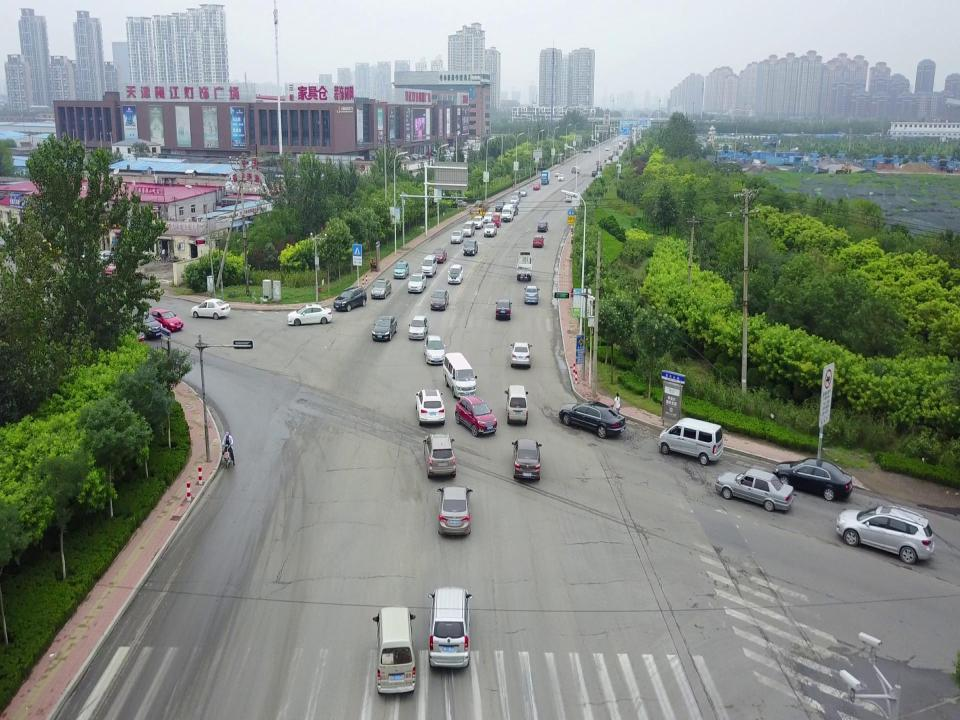car: (830, 502, 938, 572), (715, 461, 797, 524), (770, 451, 856, 500), (430, 484, 480, 544), (555, 397, 628, 438), (440, 349, 486, 404), (415, 430, 461, 482), (453, 395, 501, 440), (511, 436, 551, 488), (412, 382, 448, 431), (190, 294, 240, 326), (502, 378, 534, 428), (281, 303, 332, 328), (126, 303, 162, 337), (332, 282, 368, 312), (152, 306, 185, 334), (422, 332, 446, 369), (370, 316, 398, 344), (507, 338, 532, 368), (492, 294, 514, 321), (407, 311, 426, 341), (369, 278, 393, 301), (521, 284, 542, 307), (430, 288, 450, 312), (407, 273, 427, 294), (421, 254, 438, 278), (446, 262, 464, 284), (392, 258, 410, 279), (462, 237, 480, 257), (432, 244, 448, 266), (535, 217, 551, 233), (532, 232, 547, 249), (483, 223, 497, 241), (449, 228, 463, 245), (473, 215, 484, 229), (484, 211, 494, 224), (494, 198, 504, 210), (569, 166, 581, 176), (510, 195, 520, 205), (532, 182, 541, 192), (519, 186, 527, 197), (557, 174, 565, 183), (555, 168, 561, 179), (590, 169, 598, 177), (596, 165, 604, 173), (603, 145, 610, 152)
truck: (514, 248, 534, 281), (471, 203, 493, 217), (539, 169, 552, 184), (580, 145, 594, 154)
van: (364, 597, 420, 701), (424, 576, 478, 678), (659, 414, 725, 462), (500, 202, 516, 222), (462, 218, 476, 237), (512, 189, 522, 201)
